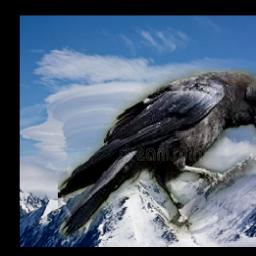Crow: (59, 69, 256, 240)
